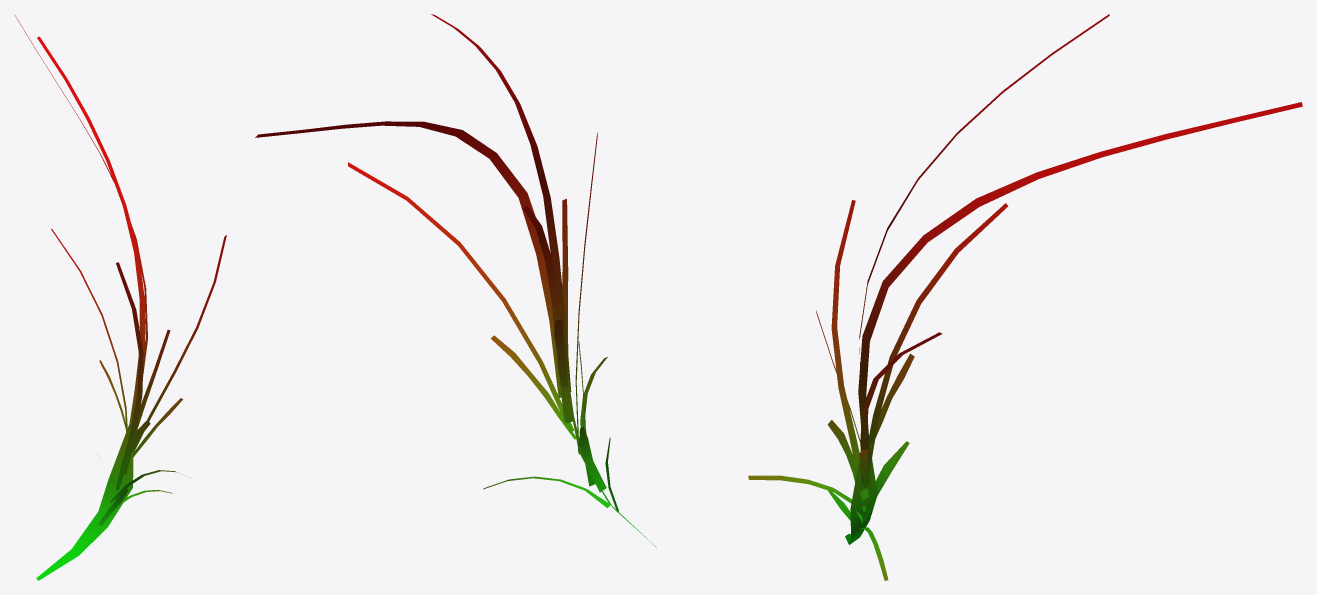
The model's file is Sea Wheatgrass_LOD1_Var15_ui2oagjia.fbx.
3 views of the same model, side by side, from view 1: azimuth 30°, elevation 25°; view 2: azimuth 150°, elevation 25°; view 3: azimuth 270°, elevation 25° (orthographic). The views are drawn at different scales.
Parts seen in each view (by area): view 1: _0qf1_Var15_LOD1; view 2: _0qf1_Var15_LOD1; view 3: _0qf1_Var15_LOD1.
Boxes of the visible parts, x1=… form: _0qf1_Var15_LOD1: x1=15, y1=15, x2=226, y2=580; _0qf1_Var15_LOD1: x1=255, y1=14, x2=656, y2=547; _0qf1_Var15_LOD1: x1=748, y1=14, x2=1302, y2=580.
Bounding box in the file's own units: 22.41 × 42.37 × 36.36.
